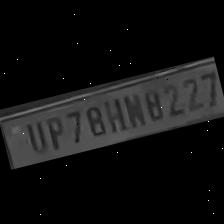2: (176, 71, 204, 112), (156, 78, 184, 118)
7: (58, 104, 88, 146), (194, 65, 221, 107)
8: (79, 99, 109, 138), (138, 83, 166, 122)
H: (100, 92, 129, 134)
N: (118, 88, 146, 130)
P: (40, 110, 68, 150)
U: (19, 116, 48, 154)
